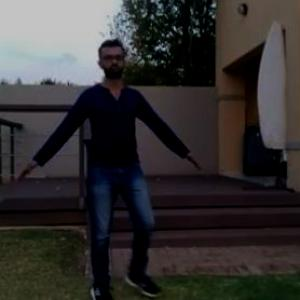land: (19, 43, 198, 297)
